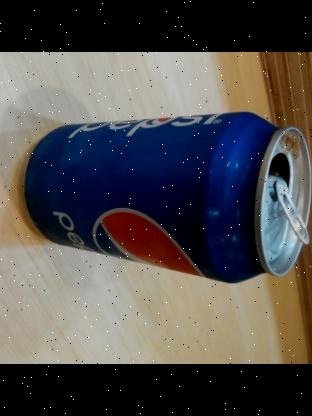Can: (21, 114, 311, 284)
